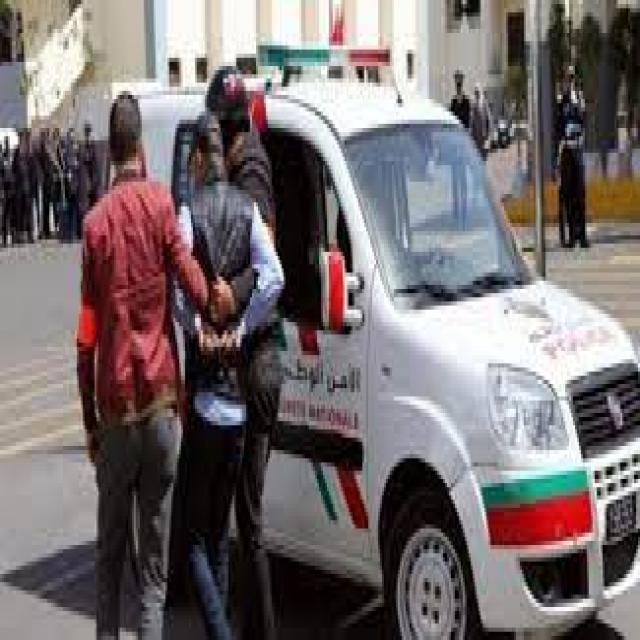police: (114, 45, 638, 640)
